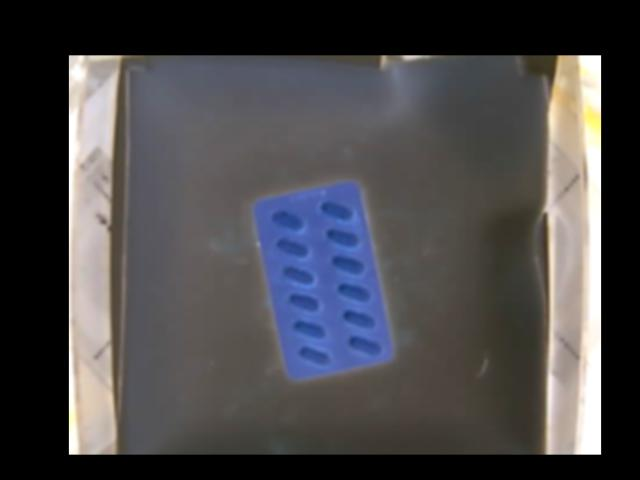Medicine: (250, 179, 394, 378)
